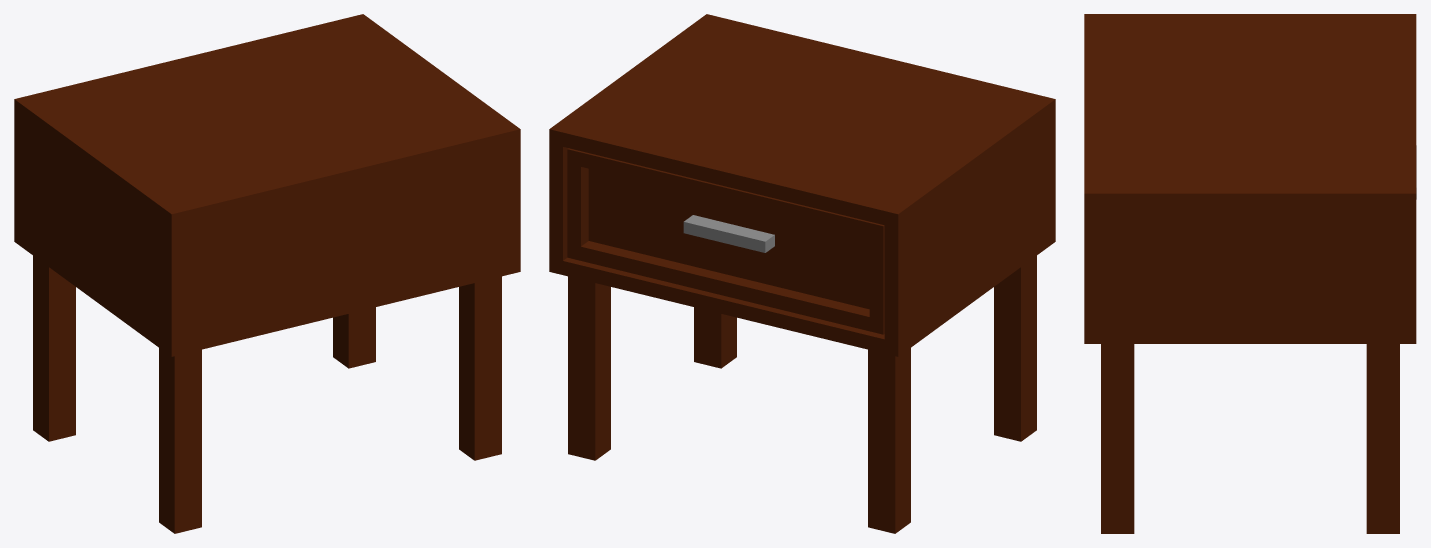
Rendered from Blockout_SideTable_03 1.fbx.
The picture shows the model from 3 angles, left to right: view 1: azimuth 30°, elevation 25°; view 2: azimuth 150°, elevation 25°; view 3: azimuth 270°, elevation 25°; orthographic projection. The views are drawn at different scales.
Parts seen in each view (by area): view 1: SideTable_Unit_01; view 2: SideTable_Unit_01, SideTable_Drawer_01; view 3: SideTable_Unit_01.
Boxes of the visible parts, bbox=[...] form: SideTable_Unit_01: bbox=[14, 14, 520, 533]; SideTable_Unit_01: bbox=[549, 14, 1055, 533]; SideTable_Drawer_01: bbox=[567, 148, 884, 334]; SideTable_Unit_01: bbox=[1084, 14, 1416, 533].
Bounding box in the file's own units: 64 × 57.5 × 50.01.
